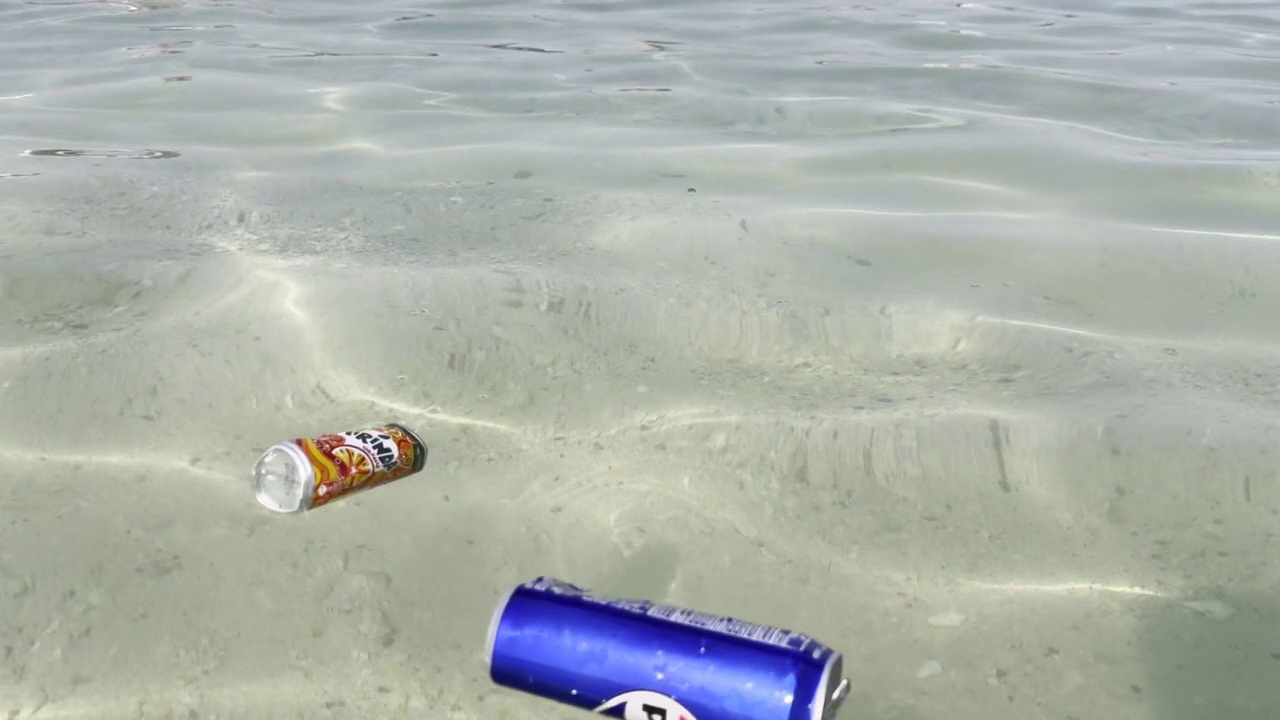debris: (472, 571, 858, 720), (242, 407, 436, 528)
